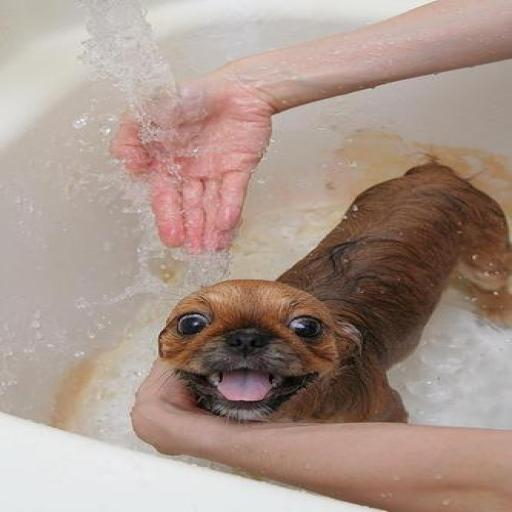dog_face: (151, 274, 349, 417)
